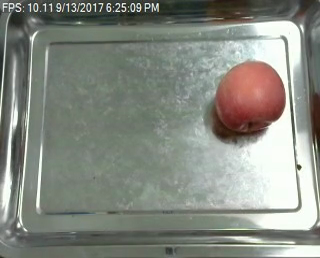Apple: (209, 60, 290, 135)
